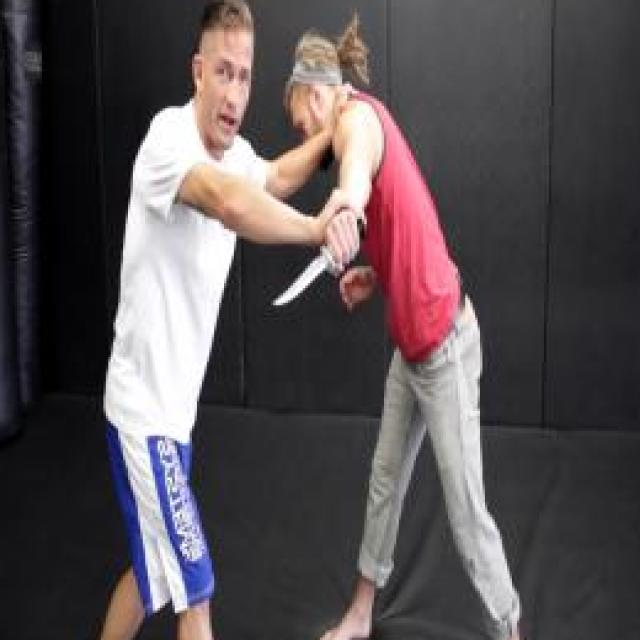knife: (269, 205, 372, 318)
